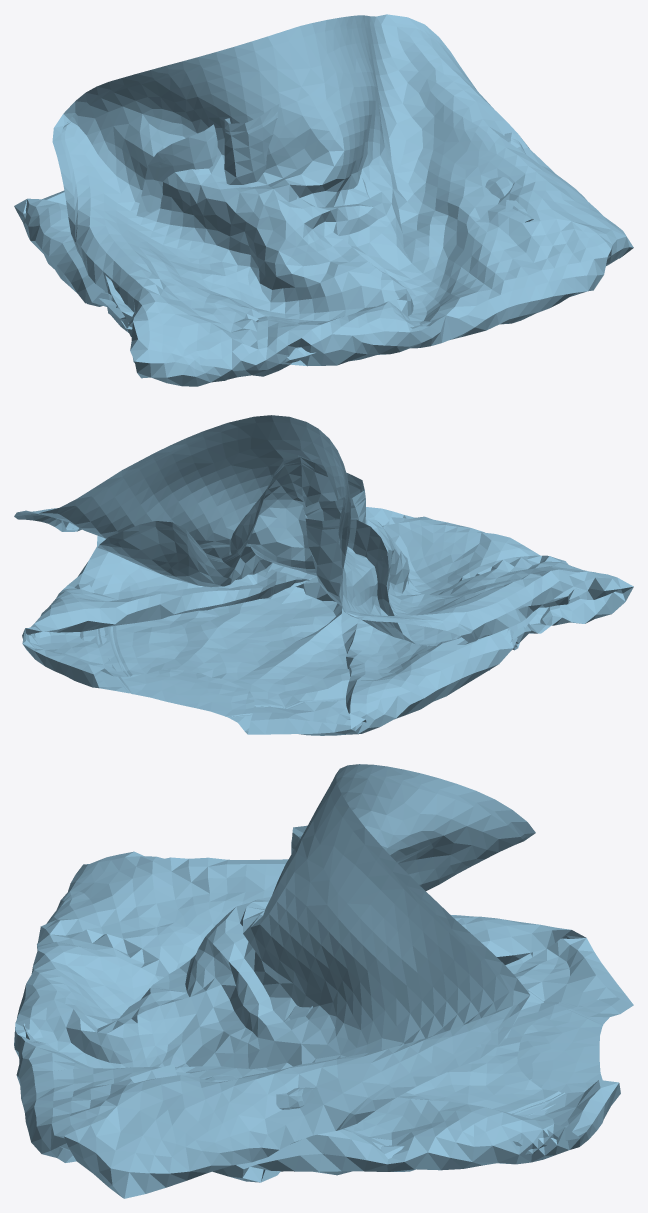
The model's file is frame_19.glb.
3 renders of one model, top to bottom at view 1: azimuth 30°, elevation 25°; view 2: azimuth 150°, elevation 25°; view 3: azimuth 270°, elevation 25°, orthographic. The views are drawn at different scales.
Visible parts, largest first — view 1: frame_19.obj; view 2: frame_19.obj; view 3: frame_19.obj.
Part boxes in pixels (x1,y1,x2,y2): frame_19.obj: (14, 14, 633, 386); frame_19.obj: (14, 415, 633, 735); frame_19.obj: (14, 764, 633, 1198).
Bounding box in the file's own units: 1.17 × 0.5067 × 1.
